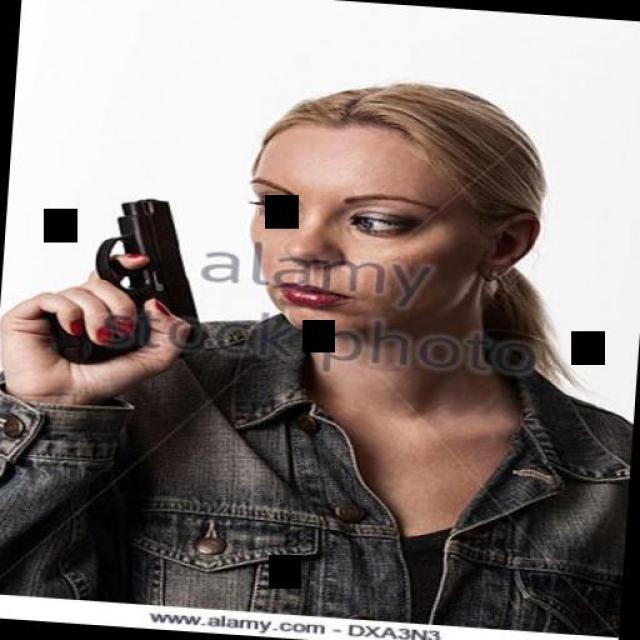gun: (44, 188, 214, 372)
